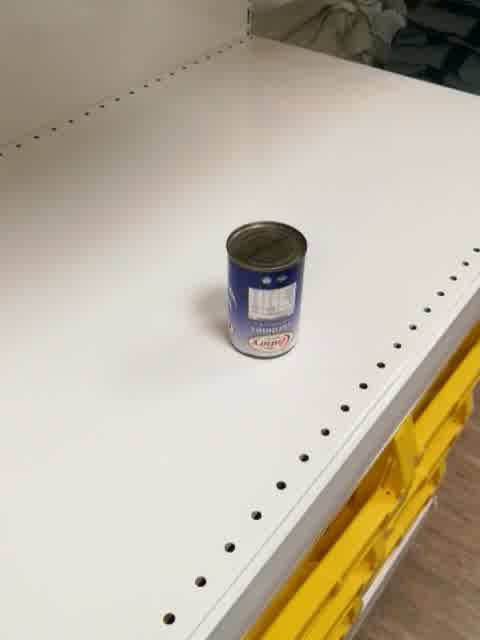sardine: (224, 221, 308, 361)
